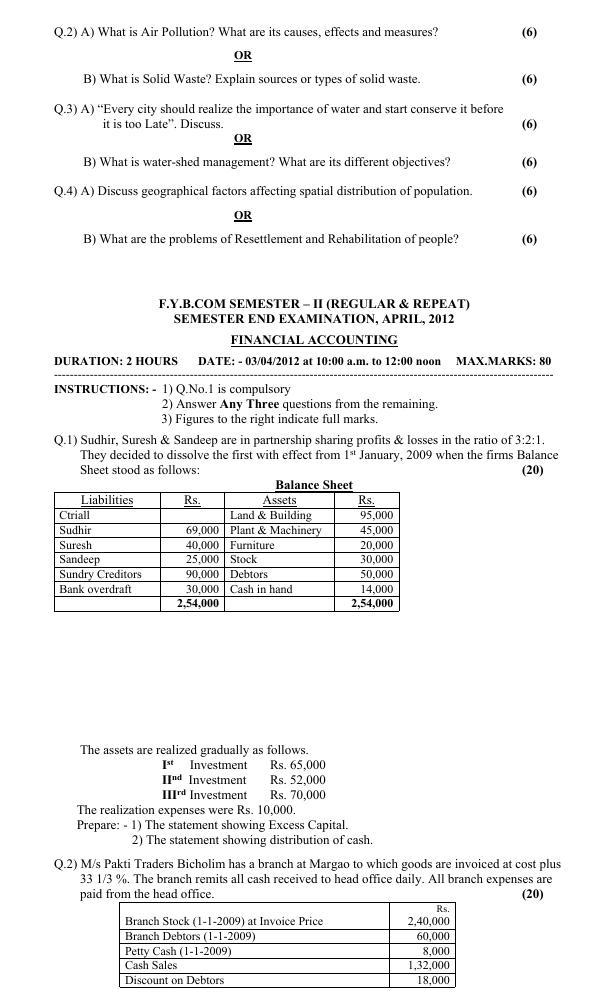table: (50, 489, 403, 618), (113, 898, 460, 991)
text: (47, 16, 556, 254), (76, 740, 382, 849), (51, 432, 565, 480), (52, 854, 566, 902), (52, 332, 556, 372), (50, 381, 445, 428), (151, 292, 474, 327)
